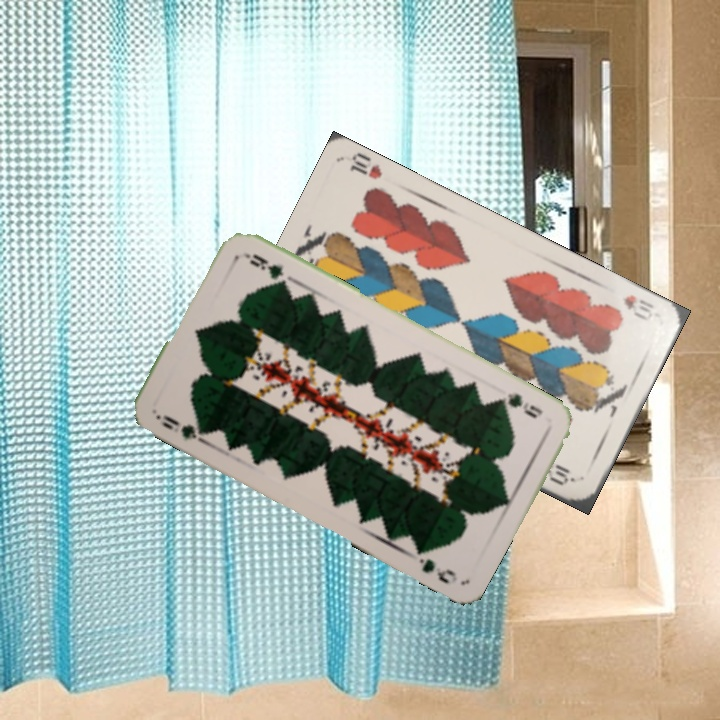G9: (151, 410, 211, 446), (493, 388, 546, 421)
H10: (618, 291, 657, 324)
